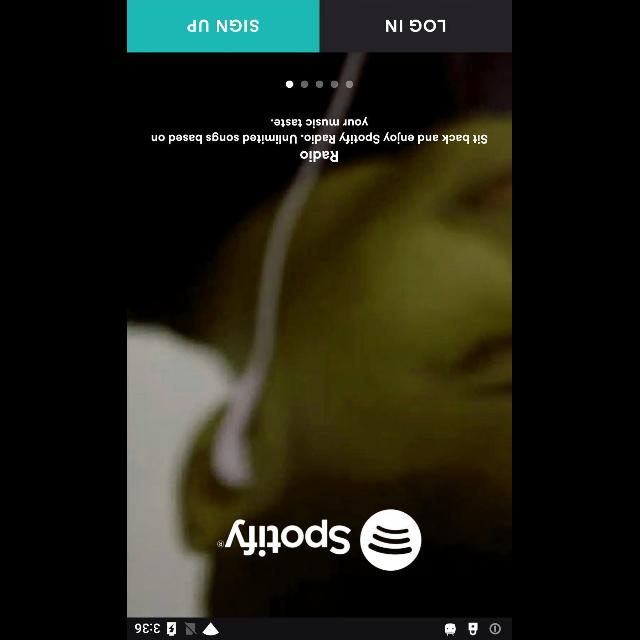backgroundimage: (128, 53, 512, 617)
image: (218, 509, 422, 571)
pageindicator: (286, 80, 354, 88)
text: (152, 118, 490, 144), (301, 151, 339, 163)
textbutton: (321, 0, 513, 52), (128, 0, 320, 52)
uppertaskbar: (128, 617, 512, 639)
